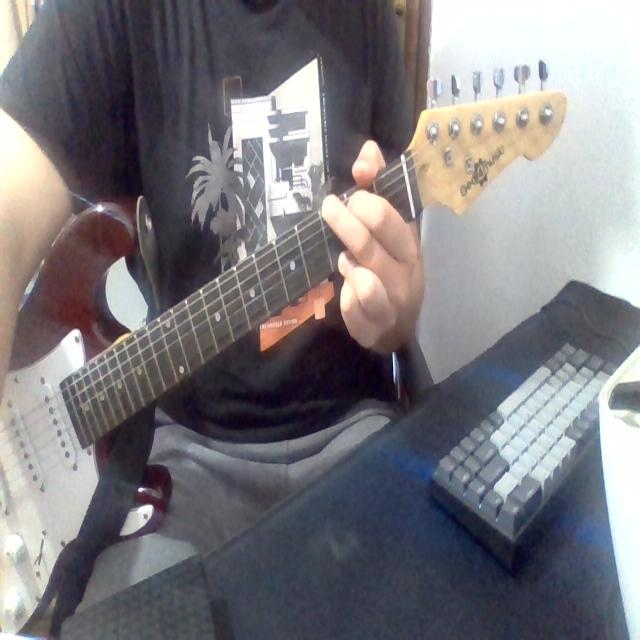G: (313, 150, 413, 381)
